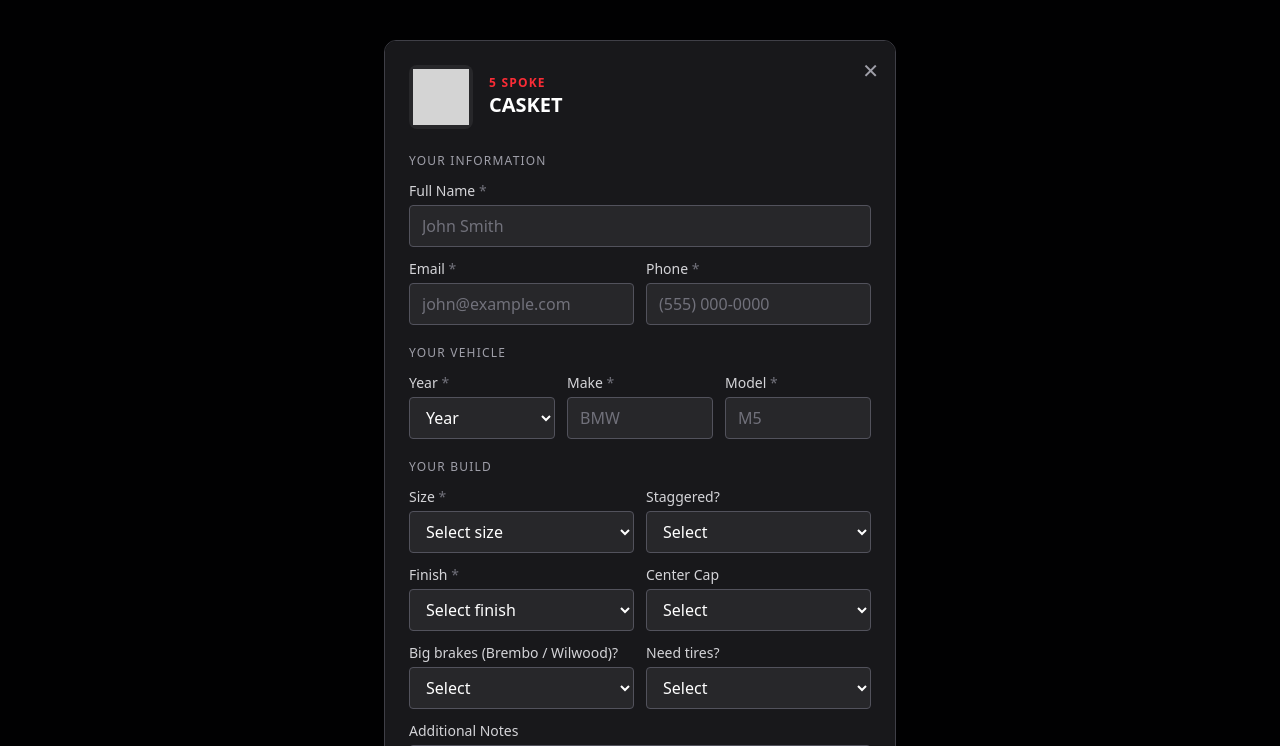
Scenario: shows the color code field only for a color-match finish
This screenshot has width=1280, height=746.
Expected: the field labelled "color / paint code" is not shown
Select "Color match / custom" in the dropdown labelled "Finish *": (522, 610) x1=409 y1=589 x2=634 y2=631
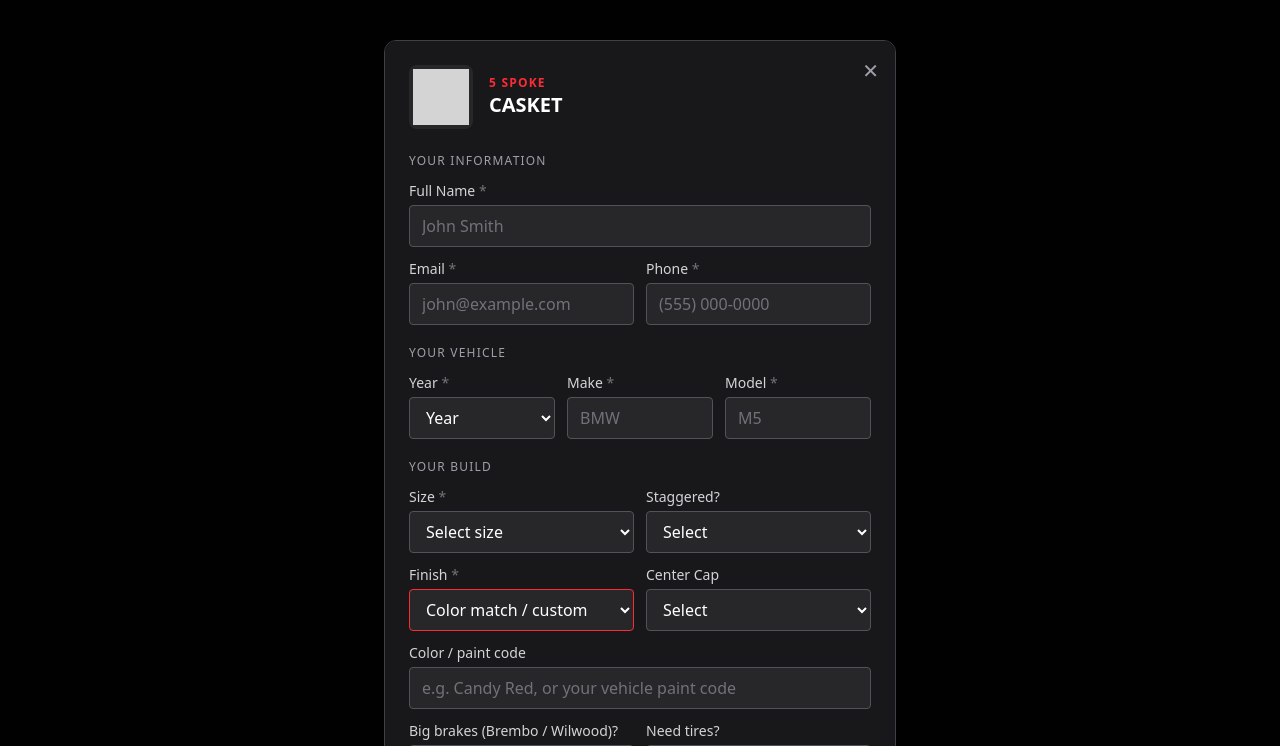
Expected: the field labelled "Color / paint code" is shown, x1=409 y1=667 x2=871 y2=709
